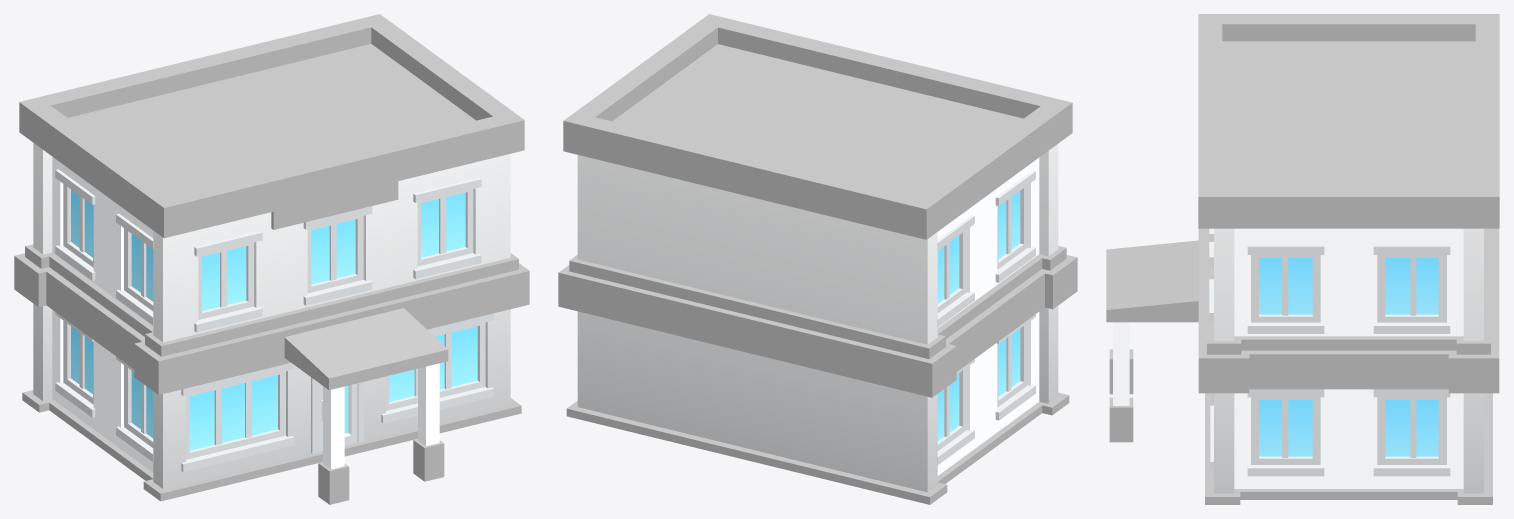
The model's file is Building_Living_38.glb.
The picture shows the model from 3 angles, left to right: view 1: azimuth 30°, elevation 25°; view 2: azimuth 150°, elevation 25°; view 3: azimuth 270°, elevation 25°; orthographic projection. The views are drawn at different scales.
Visible parts, largest first — view 1: Building_Living_38; view 2: Building_Living_38; view 3: Building_Living_38.
Boxes of the visible parts, x1=… form: Building_Living_38: x1=14, y1=14, x2=529, y2=504; Building_Living_38: x1=558, y1=14, x2=1077, y2=504; Building_Living_38: x1=1106, y1=14, x2=1499, y2=504.
Bounding box in the file's own units: 10.14 × 7.72 × 8.95.
Materials: 1 (1 with a texture image).
